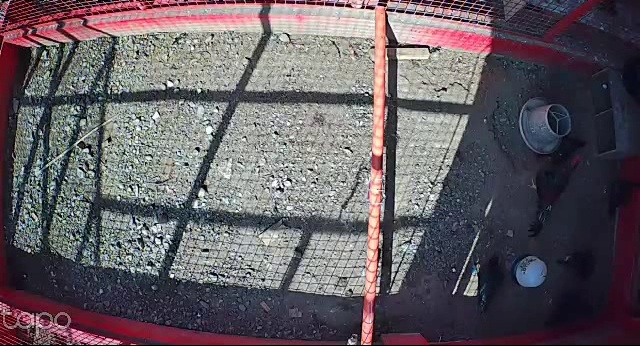Chicken: (465, 254, 509, 317), (543, 286, 588, 332), (535, 136, 588, 164), (556, 247, 596, 278)
Drinker: (511, 252, 548, 289)
Feeder: (519, 91, 574, 158)
Rooster: (522, 155, 581, 240)
